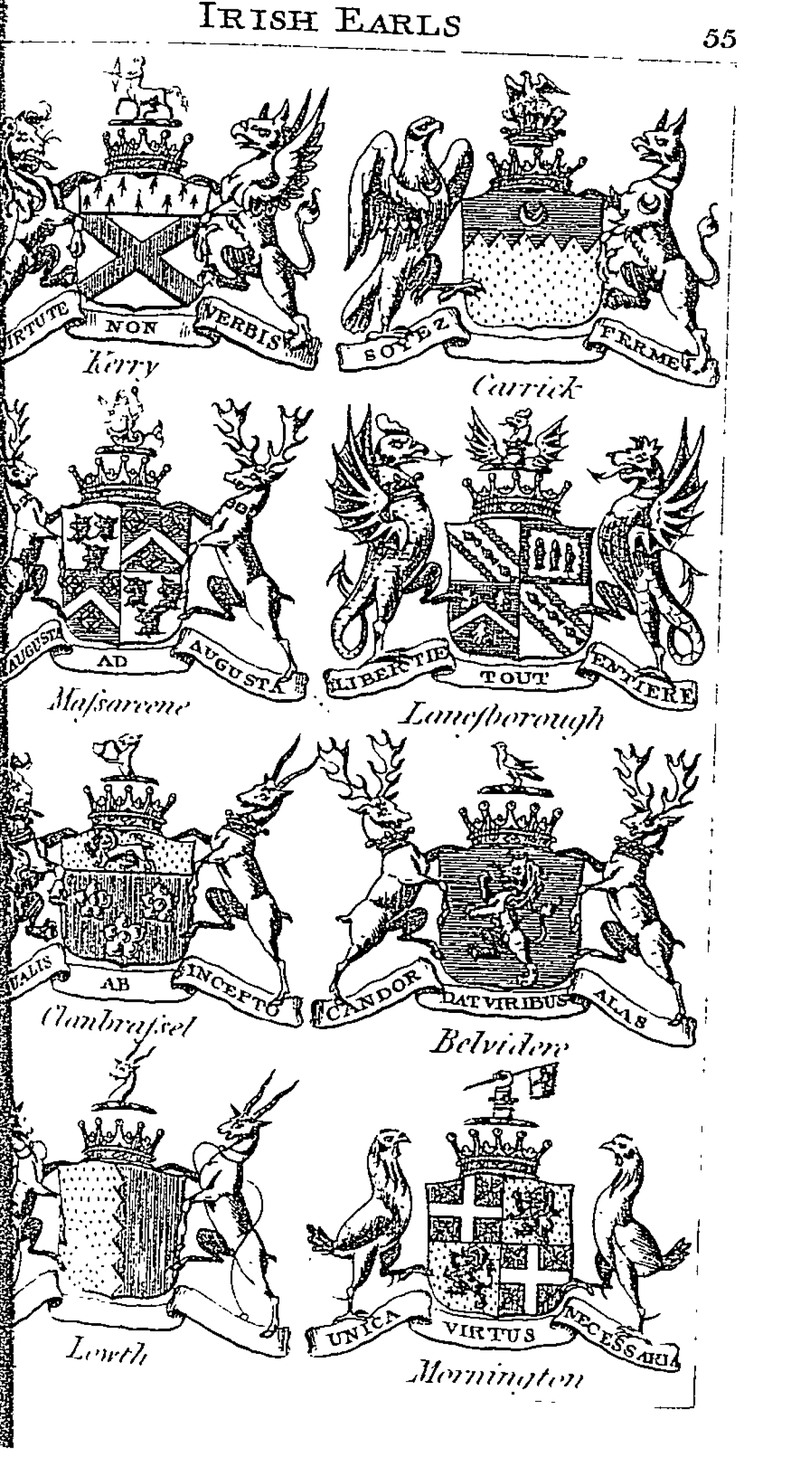coat_of_arms: (318, 731, 711, 1072), (302, 1058, 689, 1394), (347, 60, 721, 407), (337, 403, 714, 740), (3, 50, 327, 391), (5, 393, 319, 731), (1, 734, 316, 1047), (5, 1045, 296, 1377)
